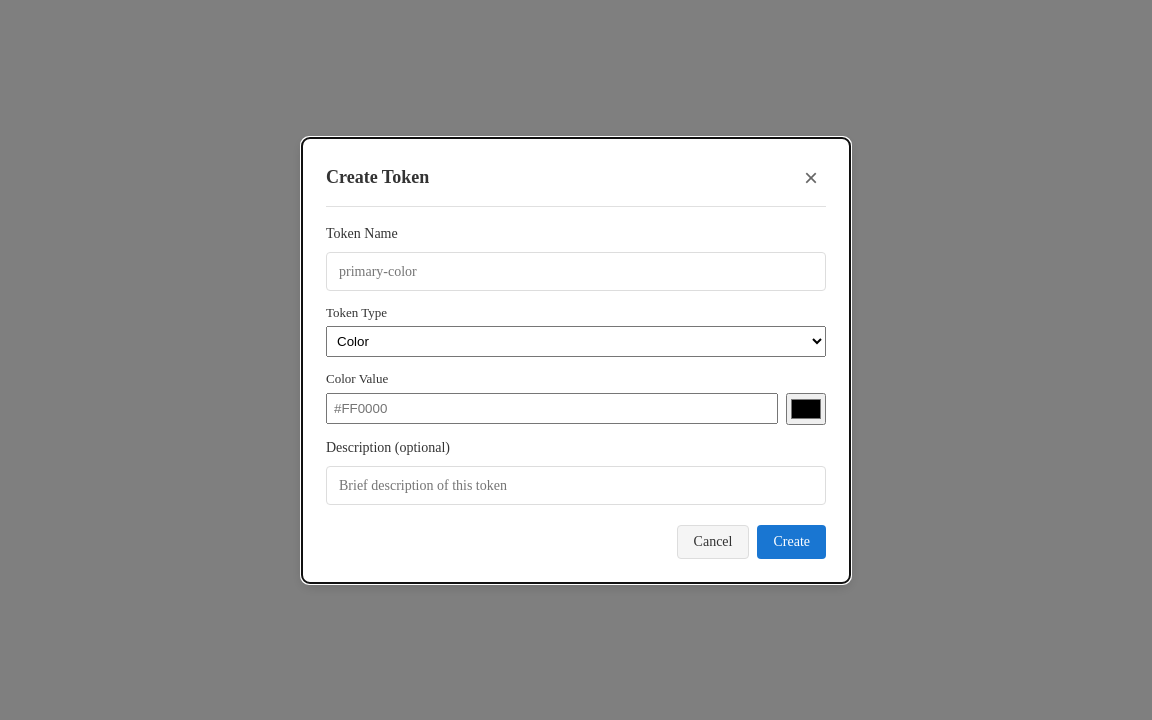
TokenEditor › Create Mode › validates opacity range
Step 1. Select "Opacity" in the dropdown labelled "Token Type" → [576, 342], box top-left (326, 326), bottom-right (826, 357)
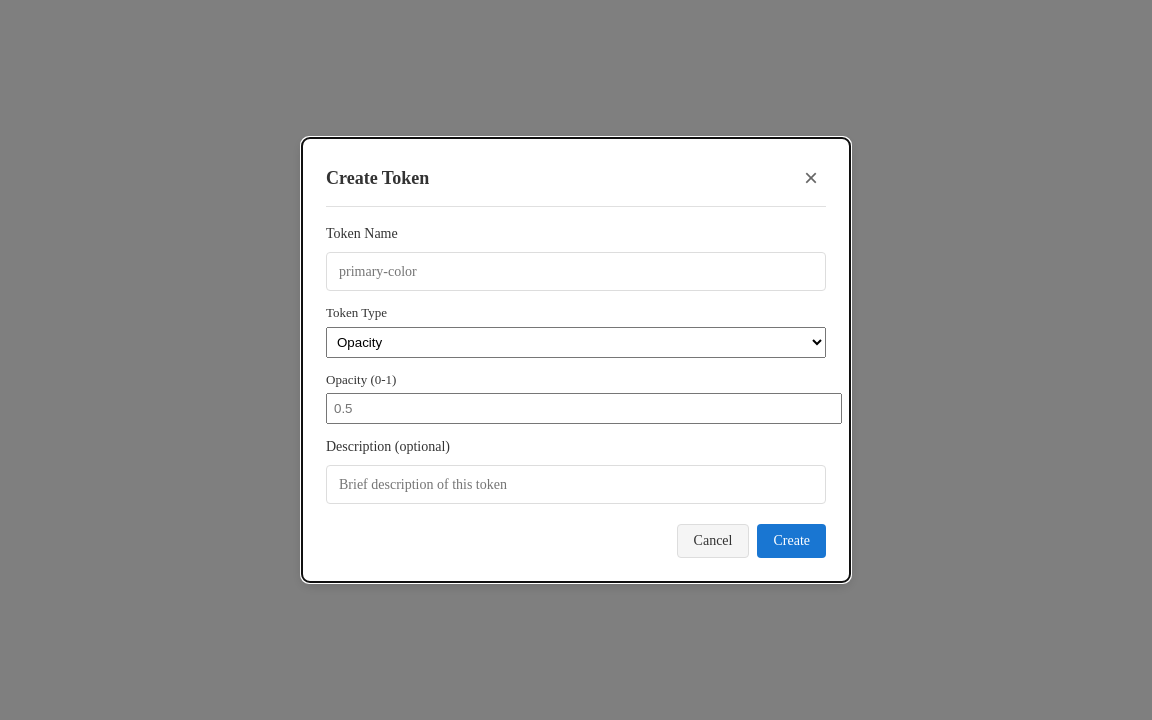
Step 2. Type "opacity-invalid" into the field with placeholder "primary-color" → [576, 272], box top-left (326, 252), bottom-right (826, 291)
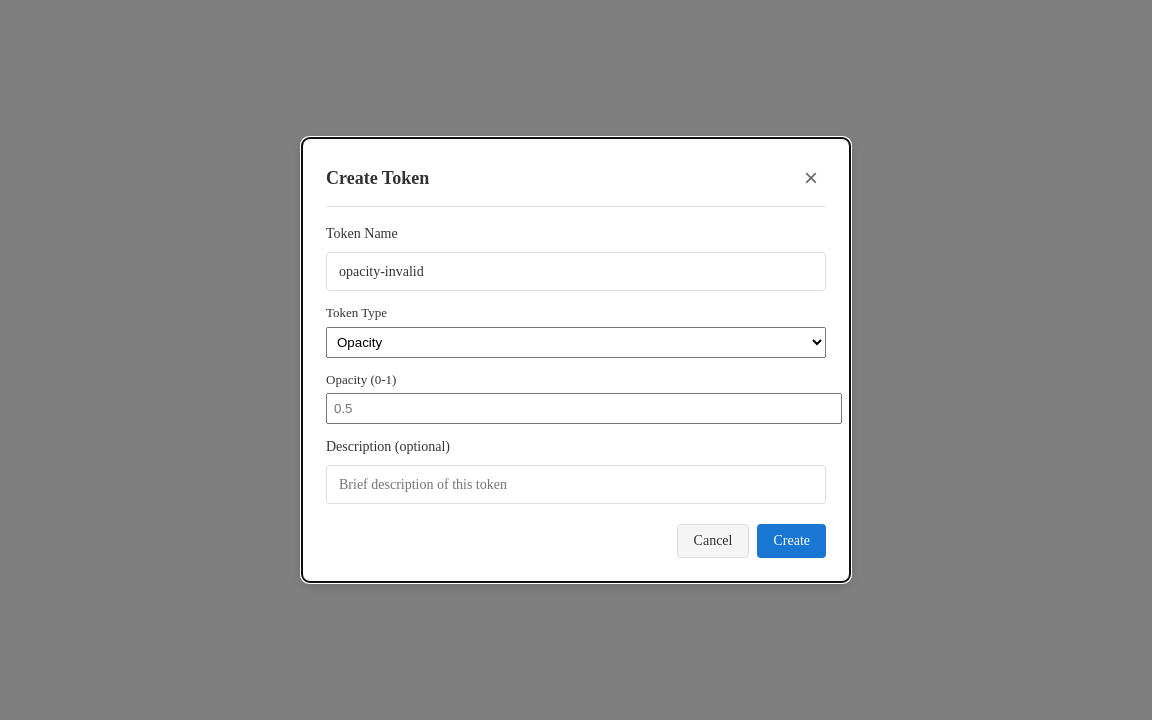
Step 3. Type "1.5" into the number field named "Opacity value" → [584, 408], box top-left (326, 393), bottom-right (842, 424)
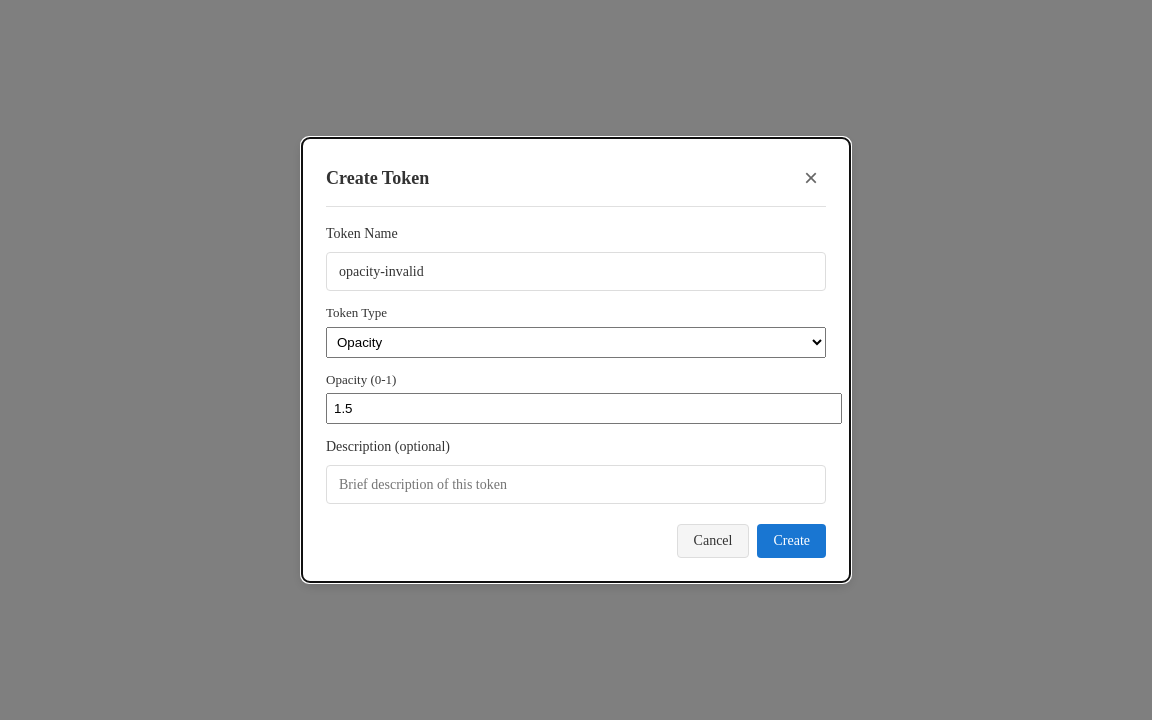
Step 4. Click the button "Create" → [792, 541], box top-left (758, 524), bottom-right (826, 558)
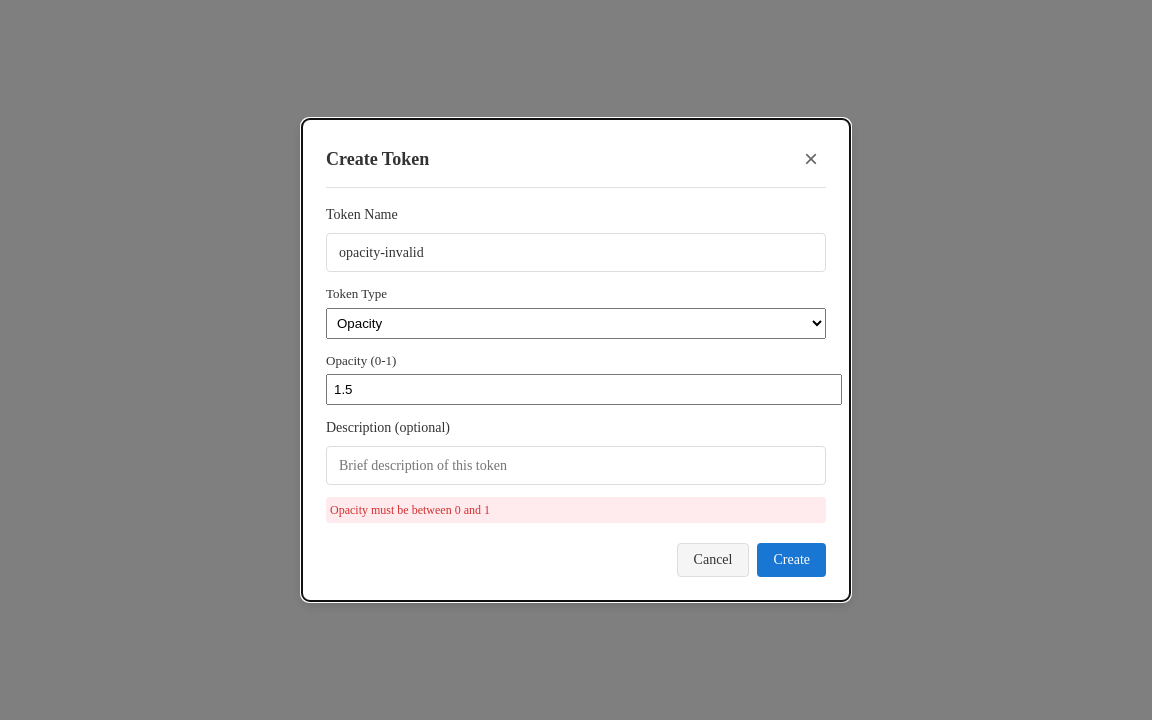
Now the text "Opacity must be between 0 and 1" is shown, box top-left (326, 497), bottom-right (826, 523)
